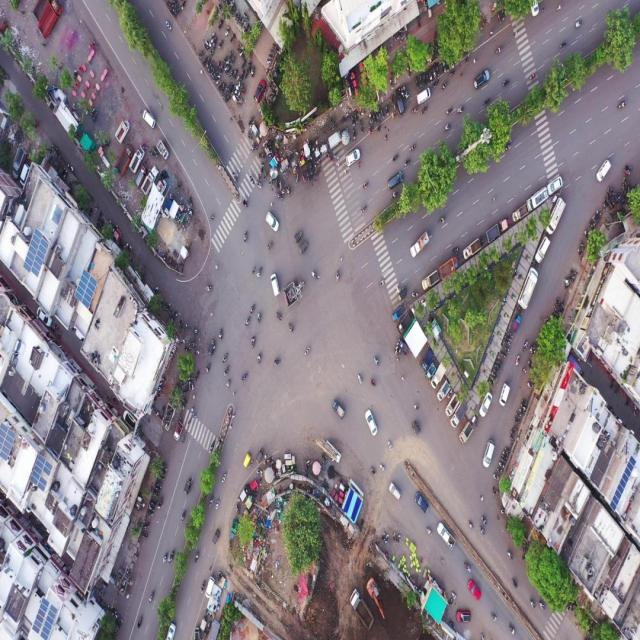3W: (411, 420, 423, 442), (183, 478, 192, 497), (208, 338, 216, 358), (243, 451, 252, 468), (256, 448, 264, 466), (399, 287, 408, 303), (212, 529, 221, 544), (293, 230, 303, 243), (300, 240, 308, 253)
Cars: (481, 436, 496, 470), (363, 410, 380, 438), (414, 490, 431, 517), (596, 157, 612, 184), (263, 209, 280, 234), (536, 235, 550, 263), (472, 69, 492, 88), (140, 108, 157, 130), (466, 578, 482, 600), (479, 392, 492, 419), (205, 573, 217, 600), (386, 171, 403, 190), (343, 150, 362, 167), (547, 174, 563, 194), (253, 79, 266, 103), (456, 608, 472, 626), (270, 273, 281, 298), (395, 88, 406, 113), (499, 383, 511, 405), (416, 88, 431, 105), (388, 483, 401, 501), (166, 622, 176, 640)
LCV: (518, 268, 539, 312), (546, 197, 566, 234), (527, 185, 549, 213), (409, 231, 428, 258), (142, 166, 158, 196), (420, 269, 439, 292), (431, 363, 446, 392), (114, 119, 131, 144), (326, 440, 344, 463), (130, 147, 146, 172), (439, 258, 459, 278), (133, 164, 148, 189), (464, 238, 481, 260), (156, 138, 170, 162), (460, 422, 474, 443), (446, 394, 458, 418), (437, 380, 450, 402), (514, 204, 528, 224), (331, 399, 345, 419), (328, 130, 342, 150), (421, 350, 434, 370), (390, 306, 402, 322), (512, 314, 521, 334), (398, 338, 407, 357), (174, 421, 183, 440)
M2W: (432, 38, 444, 58), (613, 98, 629, 111), (309, 267, 320, 283), (332, 268, 341, 286), (216, 325, 224, 344), (507, 620, 516, 636), (303, 344, 312, 359), (558, 38, 568, 51), (192, 550, 200, 566), (490, 610, 499, 624), (463, 560, 472, 574), (386, 437, 394, 452), (450, 244, 460, 256), (249, 300, 256, 316), (286, 320, 294, 334), (148, 588, 155, 604), (467, 518, 475, 532), (514, 353, 522, 367), (272, 355, 282, 366), (481, 95, 491, 106), (205, 282, 214, 294), (480, 515, 489, 527), (362, 180, 371, 192), (408, 141, 417, 153), (445, 105, 454, 117), (164, 19, 173, 31), (521, 340, 530, 352), (511, 576, 518, 591), (222, 364, 230, 377), (574, 18, 582, 31), (538, 600, 547, 611), (456, 103, 465, 114), (222, 350, 229, 364), (221, 470, 228, 484), (136, 615, 143, 629), (378, 462, 386, 474), (369, 378, 377, 390), (494, 44, 502, 56), (249, 335, 256, 348), (213, 498, 220, 511), (529, 596, 536, 609), (356, 372, 363, 385), (360, 204, 367, 217), (200, 579, 206, 594), (391, 153, 400, 163), (501, 78, 511, 87), (491, 488, 500, 498), (208, 495, 216, 506), (274, 310, 281, 322), (256, 350, 262, 364), (226, 378, 233, 390), (204, 364, 211, 376), (209, 439, 215, 453), (451, 590, 458, 602), (444, 120, 451, 132), (577, 246, 583, 260), (206, 56, 212, 70), (525, 380, 534, 389), (552, 309, 561, 318), (266, 241, 274, 251), (437, 216, 447, 224), (378, 278, 386, 288), (568, 267, 578, 275), (242, 230, 248, 243), (257, 266, 263, 279), (256, 311, 262, 324), (180, 509, 186, 522), (168, 550, 174, 563), (259, 162, 265, 175), (248, 175, 254, 188), (215, 73, 221, 86), (373, 357, 380, 368), (404, 156, 411, 167), (229, 33, 236, 44), (195, 369, 200, 384), (508, 548, 514, 560), (425, 528, 433, 537), (390, 191, 398, 200), (529, 72, 537, 81), (161, 553, 167, 565), (502, 344, 510, 353), (495, 358, 504, 366), (553, 297, 559, 309), (587, 219, 593, 231), (595, 209, 601, 221), (242, 198, 248, 210), (245, 132, 253, 141), (236, 42, 242, 54), (224, 25, 230, 37), (222, 54, 228, 66), (242, 372, 249, 382), (479, 233, 484, 247), (244, 316, 251, 326), (359, 122, 364, 136), (420, 105, 427, 115), (256, 179, 262, 190), (389, 95, 394, 108), (352, 128, 357, 141), (158, 498, 163, 511), (411, 290, 419, 298), (497, 10, 501, 26), (410, 107, 418, 115), (491, 474, 500, 481), (152, 490, 161, 497), (370, 466, 376, 476), (442, 61, 447, 73), (441, 82, 447, 92), (389, 78, 394, 90), (300, 173, 306, 183), (263, 171, 268, 183), (250, 142, 256, 152), (210, 32, 215, 44), (198, 50, 204, 60), (202, 55, 207, 67), (144, 522, 150, 532), (492, 367, 499, 375), (154, 146, 158, 160), (213, 36, 218, 47), (480, 527, 486, 536), (232, 172, 238, 181), (140, 532, 146, 541), (146, 505, 155, 511), (432, 66, 436, 79), (218, 80, 222, 93), (241, 58, 246, 68), (218, 19, 223, 29), (218, 38, 223, 48), (216, 61, 221, 71), (149, 148, 154, 158), (147, 512, 154, 519), (252, 264, 256, 276), (504, 145, 512, 151), (497, 468, 503, 476), (569, 274, 575, 282), (592, 214, 596, 226), (351, 115, 355, 127), (354, 112, 358, 124), (368, 113, 372, 125), (429, 71, 433, 83), (306, 171, 310, 183), (251, 64, 255, 76), (248, 62, 252, 74), (202, 44, 210, 50), (377, 119, 380, 134), (248, 116, 253, 125), (436, 66, 440, 77), (385, 104, 389, 115), (372, 112, 376, 123), (286, 185, 290, 196), (269, 176, 273, 187), (240, 46, 244, 57), (240, 70, 244, 81), (220, 65, 224, 76), (506, 331, 512, 338), (449, 71, 456, 77), (433, 80, 438, 88), (381, 109, 385, 119), (415, 77, 419, 87), (279, 180, 283, 190), (276, 178, 280, 188), (234, 68, 238, 78), (244, 69, 248, 79), (222, 82, 226, 92), (378, 106, 381, 118), (419, 75, 422, 87), (206, 40, 212, 46), (501, 352, 506, 359), (465, 53, 468, 64), (423, 75, 426, 86), (229, 50, 232, 61), (230, 68, 233, 79), (210, 48, 214, 56), (426, 74, 429, 84), (296, 172, 298, 184), (232, 56, 234, 65)
Truck: (348, 588, 373, 628), (37, 0, 60, 41), (114, 144, 132, 178)
